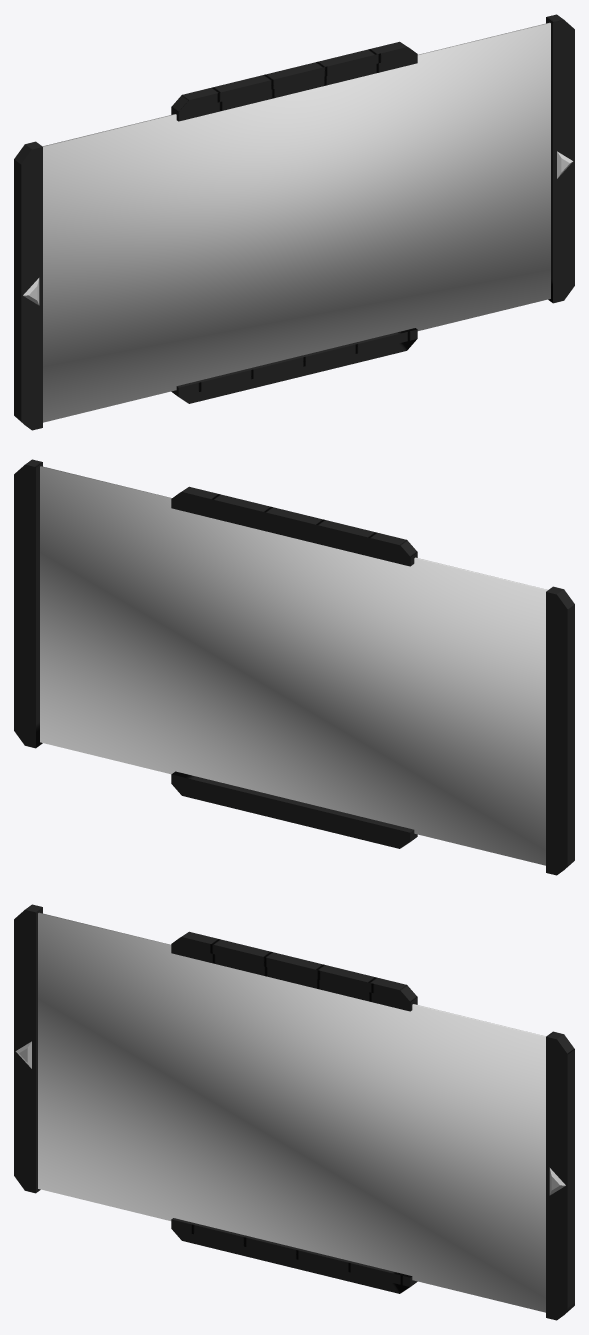
Rendered from Screen_Art.fbx.
3 renders of one model, top to bottom at view 1: azimuth 30°, elevation 25°; view 2: azimuth 150°, elevation 25°; view 3: azimuth 330°, elevation 25°, orthographic.
Parts seen in each view (by area): view 1: Screen_Art; view 2: Screen_Art; view 3: Screen_Art.
Boxes of the visible parts, <box> form: Screen_Art: <box>14,14,574,430</box>; Screen_Art: <box>14,459,574,875</box>; Screen_Art: <box>14,904,574,1320</box>.
Size of the model in its own units: 5.52 by 2.89 by 0.147.
